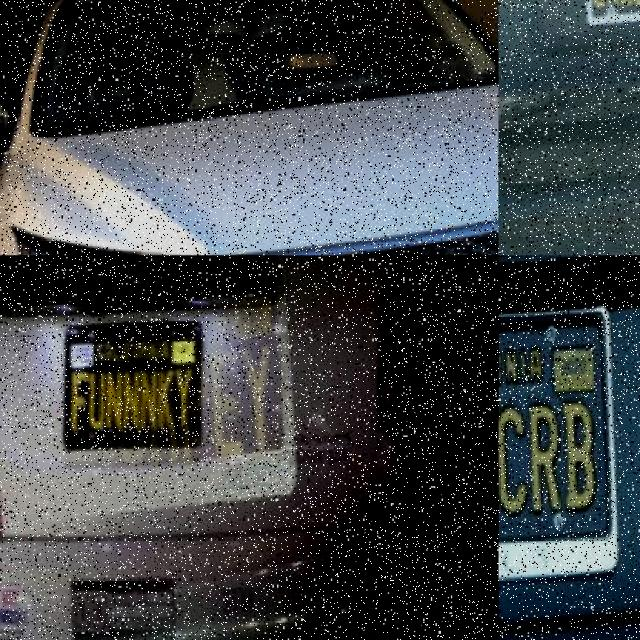licenseplate: (498, 271, 640, 612), (58, 308, 222, 459), (577, 0, 640, 52)
